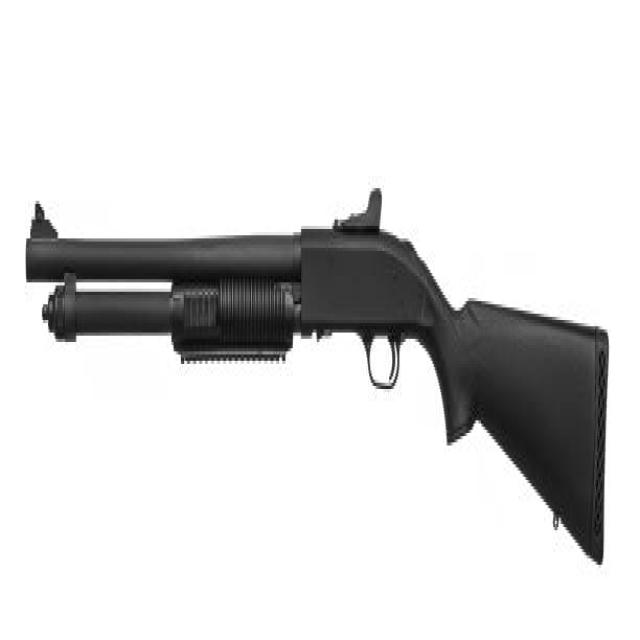rifle: (23, 191, 615, 576)
